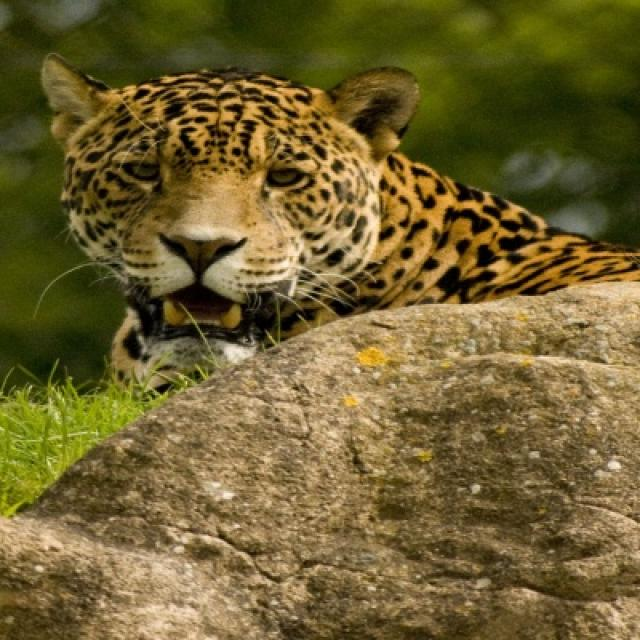Jaguar: (40, 54, 638, 376)
